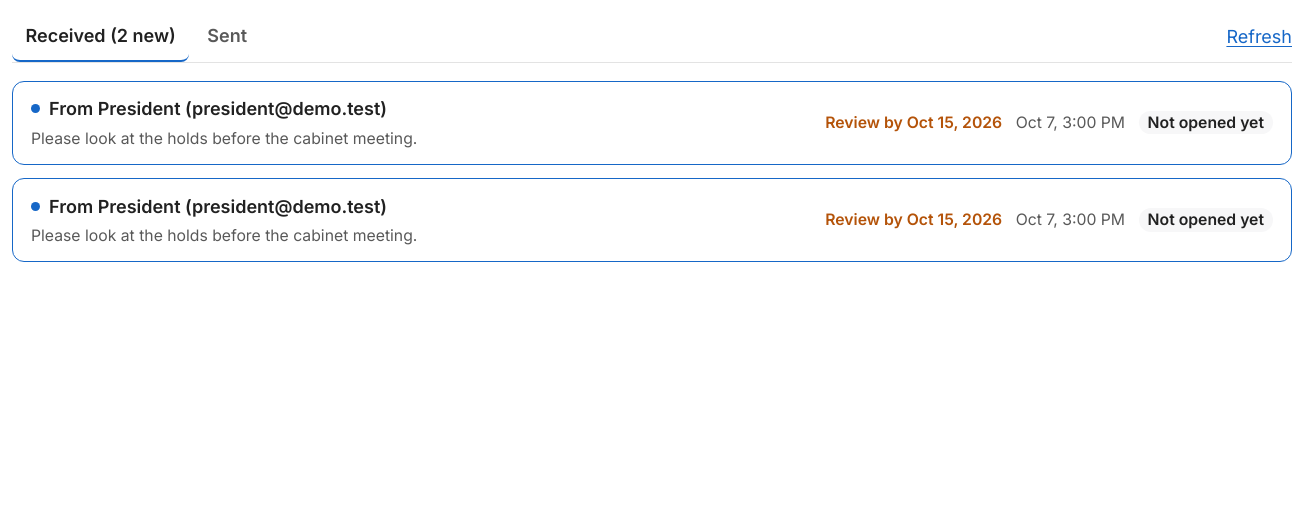
the inbox › says when the attached figure is no longer available, and labels quotes
This screenshot has width=1304, height=526.
Click the 1st button "From President" at [73, 108], box [31,95,807,150]
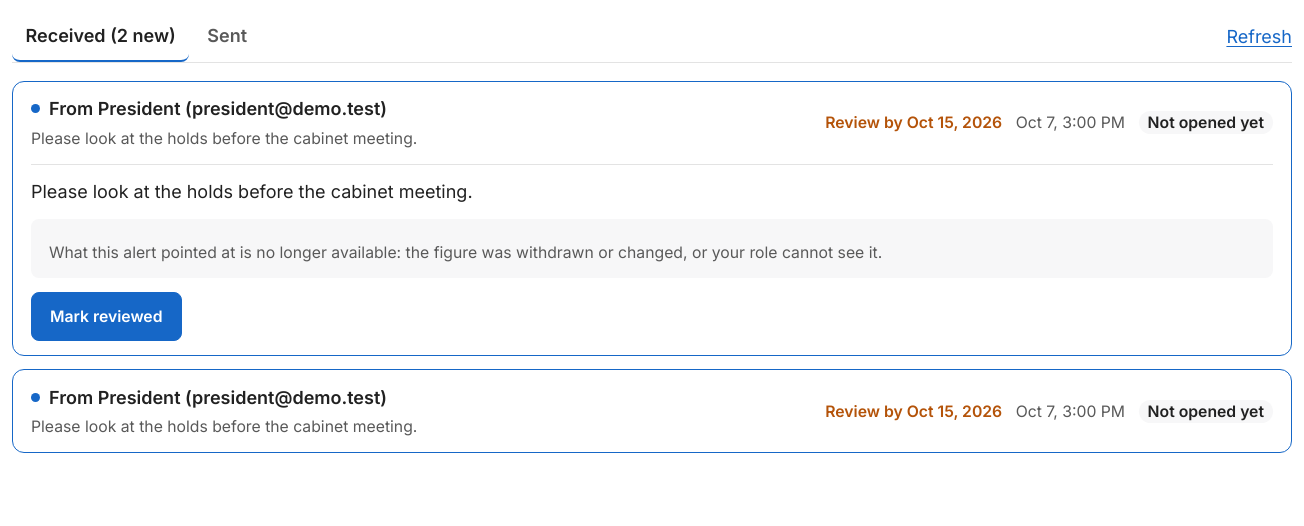
expect the text "no longer available" is shown: met, box [49,243,882,262]
Click the 2nd button "From President" at [73, 397], box [31,384,807,439]
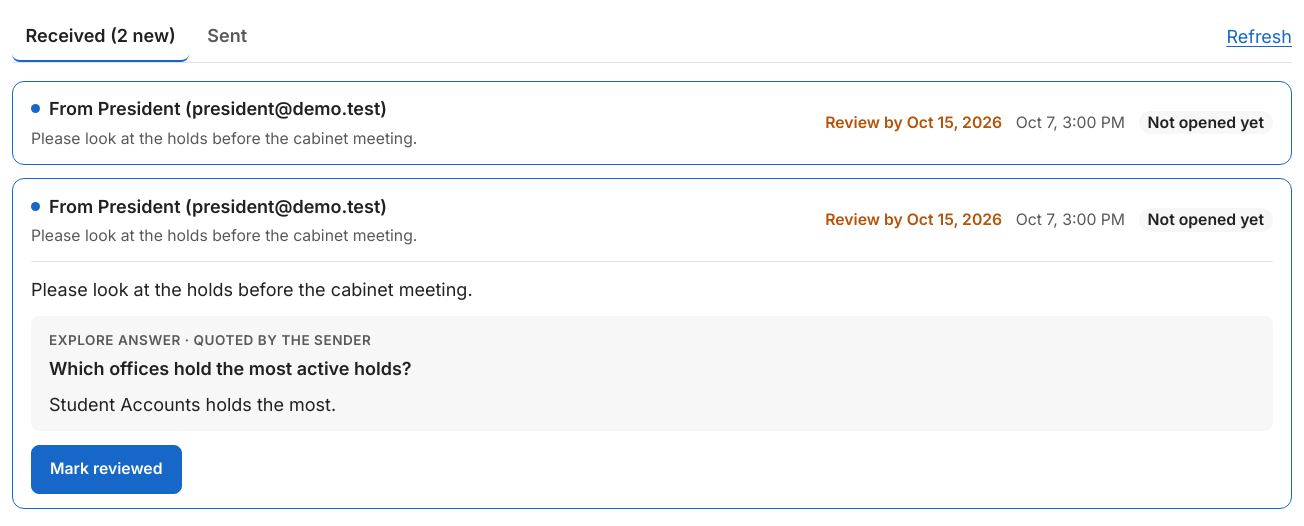
expect the text "Explore answer · quoted by the sender" is shown: met, box [49,332,371,348]
